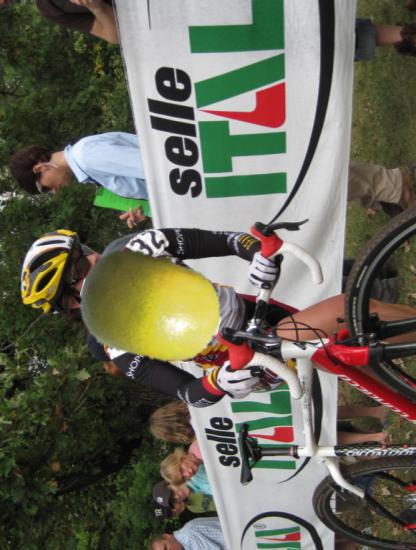Pomelo: (79, 234, 223, 378)
